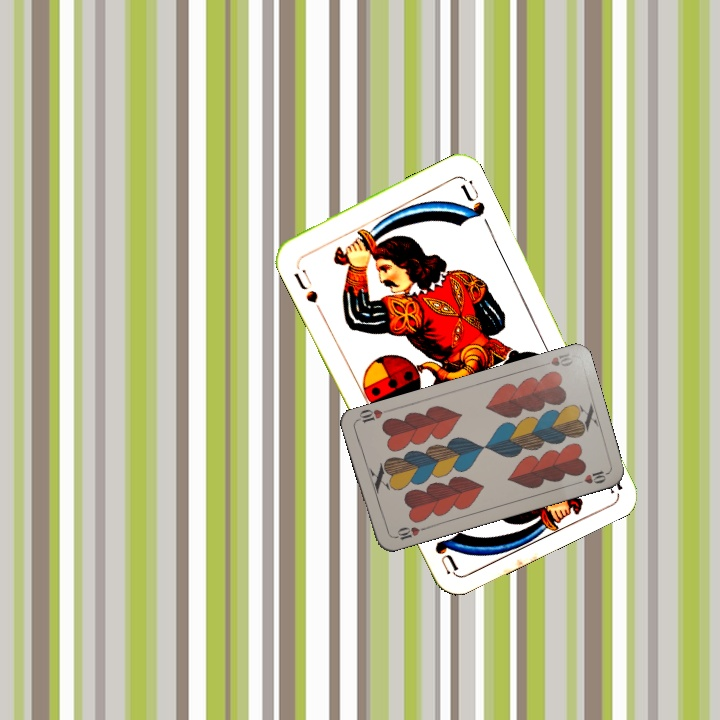H10: (389, 523, 429, 543), (535, 349, 575, 369)
SU: (290, 258, 324, 314)
